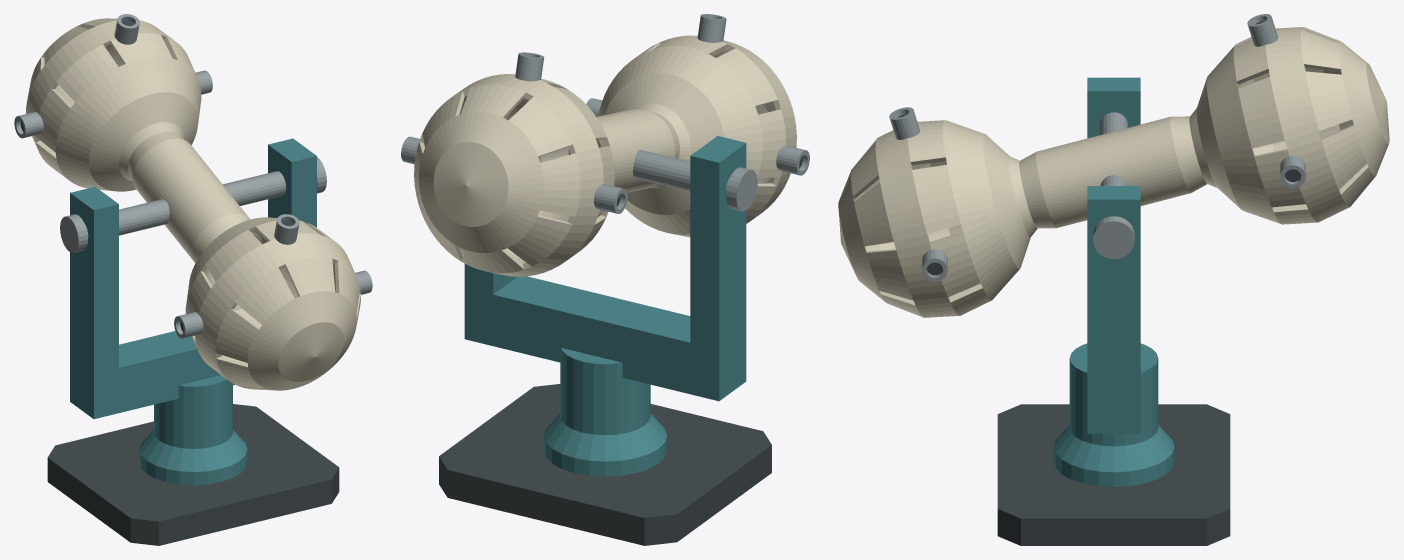
The picture shows the model from 3 angles, left to right: view 1: azimuth 30°, elevation 25°; view 2: azimuth 150°, elevation 25°; view 3: azimuth 270°, elevation 25°; orthographic projection. The views are drawn at different scales.
Visible parts, largest first — view 1: WholePerforatedTwinHeadAndCentralBarrel, WholeWideOctagonalFoot, WholeUprightForkCradle, WholeTaperedPedestal, WholeTransverseMountingAxle, WholeLeftAxleEndCap, WholeNearLeftAnnularOpticBarrel, WholeFarLeftAnnularOpticBarrel, WholeFarUpperAnnularOpticBarrel, WholeNearUpperAnnularOpticBarrel; view 2: WholePerforatedTwinHeadAndCentralBarrel, WholeUprightForkCradle, WholeWideOctagonalFoot, WholeTaperedPedestal, WholeTransverseMountingAxle, WholeLeftAxleEndCap, WholeNearLeftAnnularOpticBarrel, WholeFarLeftAnnularOpticBarrel, WholeFarUpperAnnularOpticBarrel, WholeNearUpperAnnularOpticBarrel; view 3: WholePerforatedTwinHeadAndCentralBarrel, WholeWideOctagonalFoot, WholeUprightForkCradle, WholeTaperedPedestal, WholeRightAxleEndCap, WholeNearUpperAnnularOpticBarrel, WholeFarUpperAnnularOpticBarrel, WholeTransverseMountingAxle.
Boxes of the visible parts, x1,y1,x2,y2 form: WholePerforatedTwinHeadAndCentralBarrel: [26, 18, 360, 390]; WholeWideOctagonalFoot: [47, 404, 339, 545]; WholeUprightForkCradle: [70, 138, 316, 419]; WholeTaperedPedestal: [139, 375, 247, 485]; WholeTransverseMountingAxle: [84, 171, 285, 237]; WholeLeftAxleEndCap: [60, 214, 87, 252]; WholeNearLeftAnnularOpticBarrel: [174, 312, 203, 338]; WholeFarLeftAnnularOpticBarrel: [14, 111, 43, 138]; WholeFarUpperAnnularOpticBarrel: [114, 14, 139, 44]; WholeNearUpperAnnularOpticBarrel: [274, 214, 299, 244]; WholePerforatedTwinHeadAndCentralBarrel: [414, 35, 796, 276]; WholeUprightForkCradle: [464, 136, 746, 401]; WholeWideOctagonalFoot: [439, 384, 771, 545]; WholeTaperedPedestal: [544, 348, 666, 476]; WholeTransverseMountingAxle: [568, 150, 729, 195]; WholeLeftAxleEndCap: [726, 167, 757, 211]; WholeNearLeftAnnularOpticBarrel: [776, 145, 809, 175]; WholeFarLeftAnnularOpticBarrel: [594, 184, 627, 213]; WholeFarUpperAnnularOpticBarrel: [515, 52, 544, 81]; WholeNearUpperAnnularOpticBarrel: [697, 14, 726, 42]; WholePerforatedTwinHeadAndCentralBarrel: [838, 27, 1389, 317]; WholeWideOctagonalFoot: [997, 404, 1230, 545]; WholeUprightForkCradle: [1087, 77, 1140, 433]; WholeTaperedPedestal: [1053, 343, 1174, 486]; WholeRightAxleEndCap: [1093, 216, 1134, 259]; WholeNearUpperAnnularOpticBarrel: [889, 107, 920, 139]; WholeFarUpperAnnularOpticBarrel: [1247, 14, 1278, 46]; WholeTransverseMountingAxle: [1099, 112, 1128, 185].
Size of the model in its own units: 1.38 by 2.24 by 2.37.
